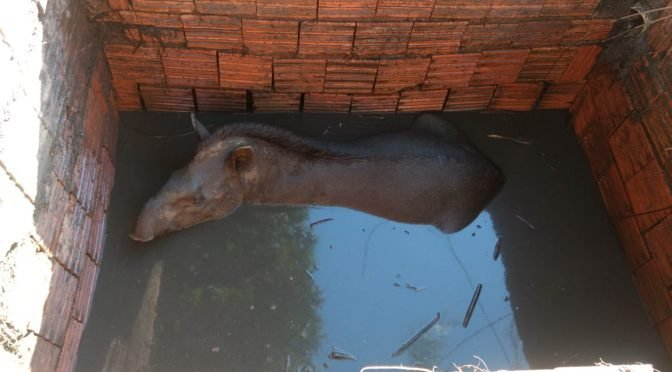Anta: (118, 107, 519, 244)
